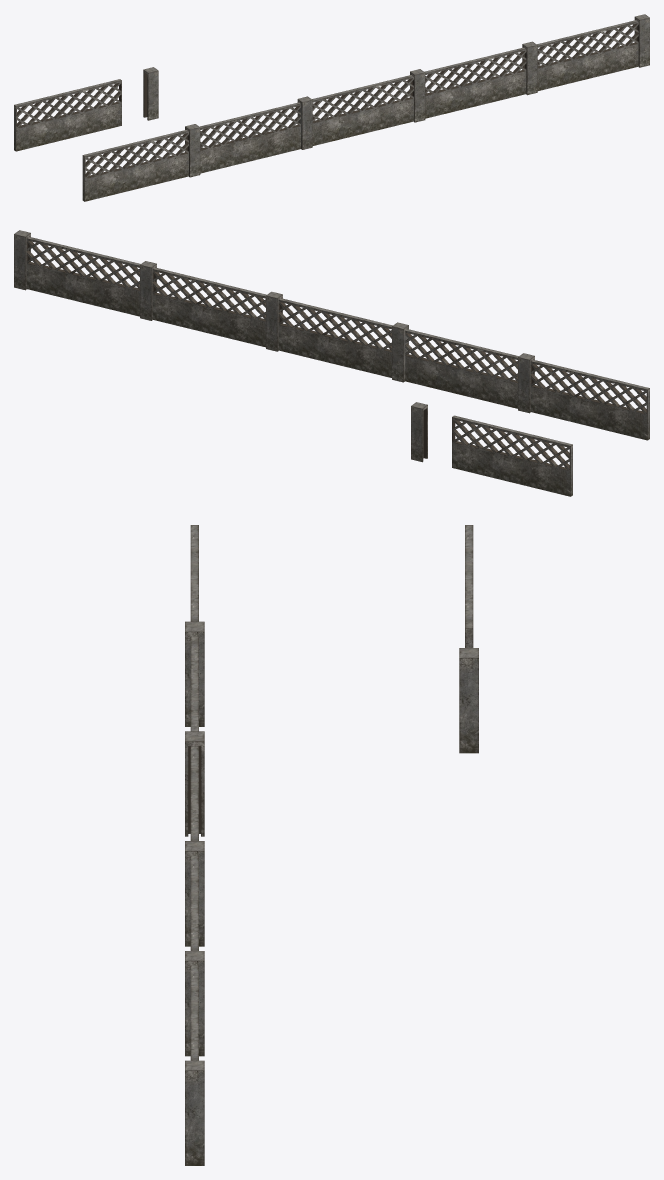
Rendered from fence-cement.glb.
3 renders of one model, top to bottom at view 1: azimuth 30°, elevation 25°; view 2: azimuth 150°, elevation 25°; view 3: azimuth 270°, elevation 25°, orthographic. The views are drawn at different scales.
Parts seen in each view (by area): view 1: 01_Mat_0; view 2: 01_Mat_0; view 3: 01_Mat_0.
Part boxes in pixels (x1,y1,x2,y2): 01_Mat_0: (14,14,649,201); 01_Mat_0: (14,230,649,496); 01_Mat_0: (185,525,478,1165).
Bounding box in the file's own units: 7.98 × 0.6436 × 1.8.
1 material, 1 textured.
